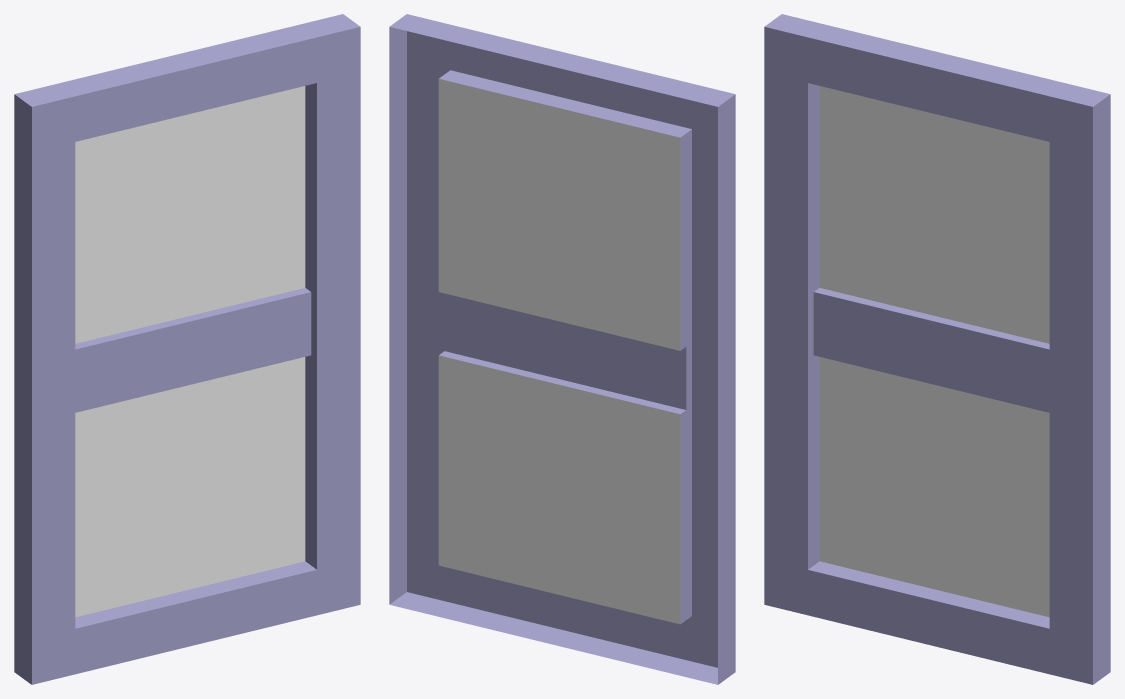
Rendered from building_window1.obj.
The picture shows the model from 3 angles, left to right: view 1: azimuth 30°, elevation 25°; view 2: azimuth 150°, elevation 25°; view 3: azimuth 330°, elevation 25°; orthographic projection.
Visible parts, largest first — view 1: mergedBlocks; view 2: mergedBlocks; view 3: mergedBlocks.
Part boxes in pixels (box(x1,y1,x2,y2)): mergedBlocks: box(14, 14, 360, 684); mergedBlocks: box(389, 14, 735, 684); mergedBlocks: box(764, 14, 1110, 684).
Size of the model in its own units: 0.326 by 0.5477 by 0.03.
